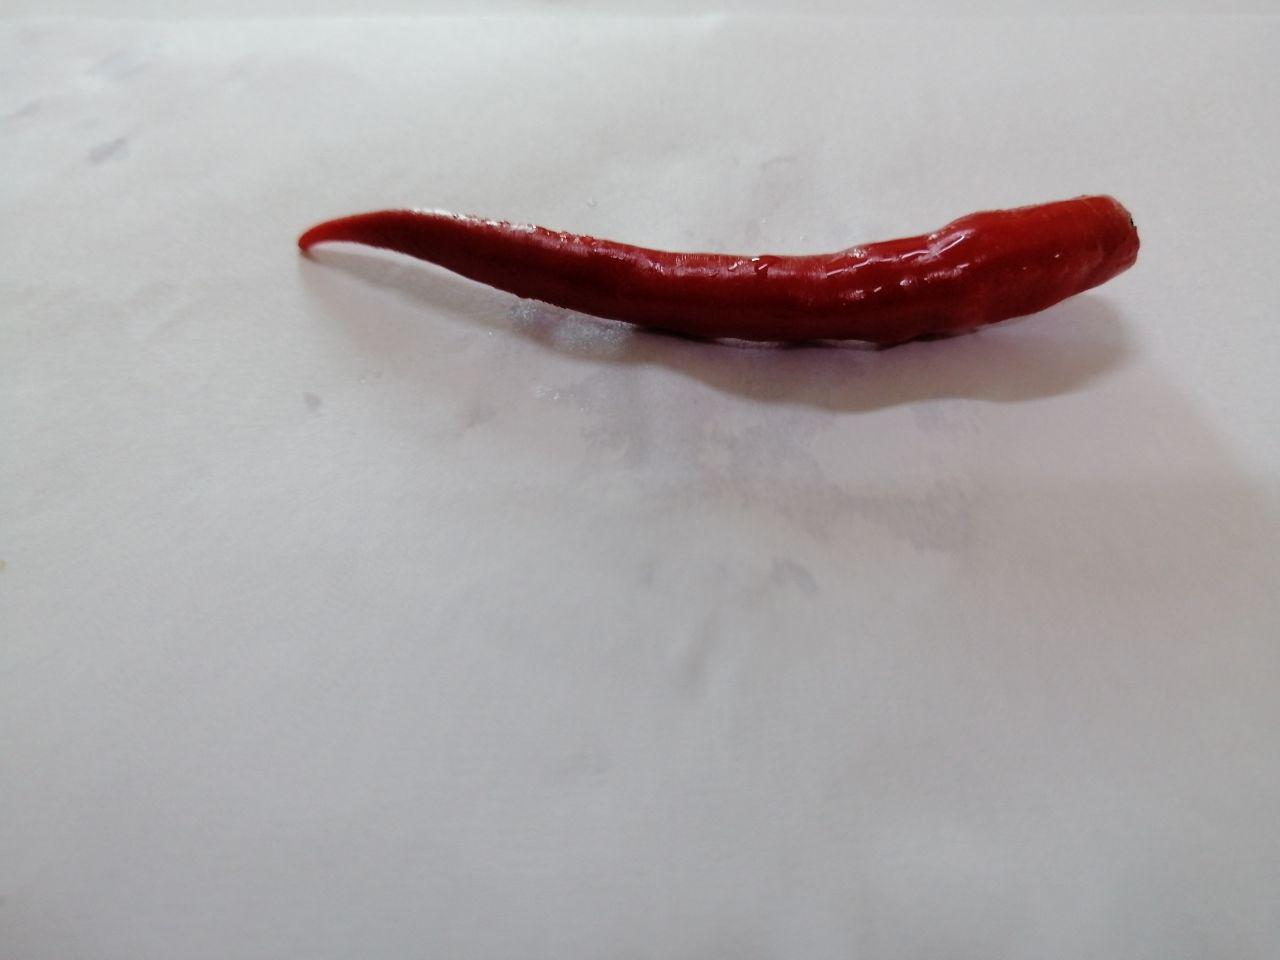lada merah: (266, 155, 1174, 381)
